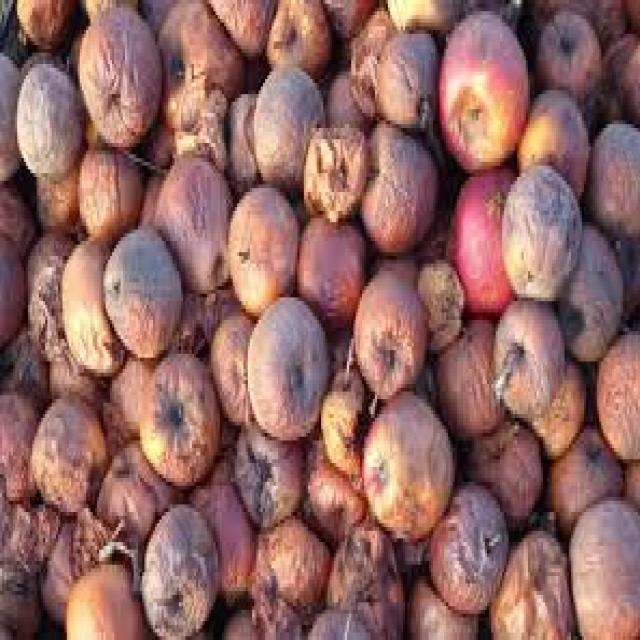biodegradable: (0, 0, 638, 636), (433, 8, 526, 166), (360, 384, 452, 538), (244, 290, 330, 437), (74, 0, 160, 143), (155, 0, 248, 128), (136, 350, 218, 490), (444, 166, 519, 316), (246, 508, 332, 636), (99, 218, 179, 354), (427, 478, 506, 614), (244, 60, 323, 196), (358, 113, 437, 248), (138, 501, 215, 636), (427, 313, 504, 445), (151, 154, 228, 286), (567, 493, 638, 636), (58, 233, 125, 384), (353, 264, 427, 399), (487, 527, 578, 636), (323, 516, 405, 636), (28, 392, 108, 512), (539, 422, 621, 538), (90, 440, 179, 546), (188, 456, 252, 603), (556, 215, 621, 358), (227, 181, 298, 309), (231, 410, 308, 527), (515, 79, 588, 200), (461, 411, 539, 524), (532, 4, 601, 117), (295, 215, 364, 324), (62, 557, 153, 636), (15, 61, 80, 170), (373, 23, 435, 136), (76, 136, 143, 237), (302, 433, 364, 542), (582, 121, 638, 237), (298, 121, 367, 215), (0, 478, 56, 591), (319, 354, 371, 470), (592, 324, 638, 452), (33, 516, 89, 621), (347, 4, 392, 120), (403, 569, 478, 637), (43, 335, 104, 418), (209, 305, 252, 422), (263, 0, 330, 75), (414, 256, 463, 350), (101, 358, 153, 444), (366, 211, 444, 267), (205, 0, 276, 60), (0, 388, 39, 497), (24, 264, 65, 365), (220, 87, 261, 185), (173, 87, 229, 158), (22, 226, 76, 297), (601, 30, 638, 124), (323, 64, 369, 139), (67, 501, 118, 565), (30, 158, 78, 226), (179, 290, 233, 350), (0, 339, 47, 403), (610, 226, 638, 331), (93, 527, 142, 584), (0, 234, 24, 347), (302, 603, 379, 637), (0, 176, 34, 252), (12, 0, 75, 41), (384, 0, 459, 34), (317, 0, 381, 38), (0, 49, 19, 177), (17, 42, 69, 87), (319, 320, 353, 376), (138, 162, 166, 226), (0, 591, 39, 636), (218, 606, 269, 636), (73, 106, 97, 155), (392, 535, 425, 569), (618, 452, 638, 504)
